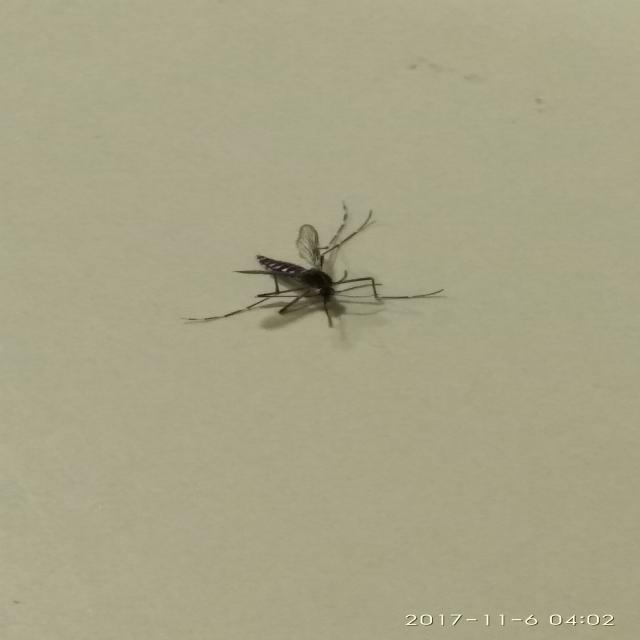albopictus: (184, 194, 455, 335)
